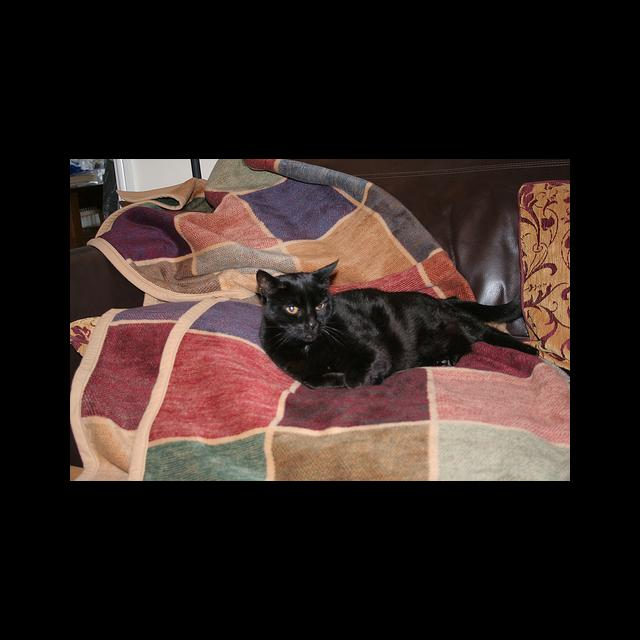animals: (260, 258, 338, 329)
